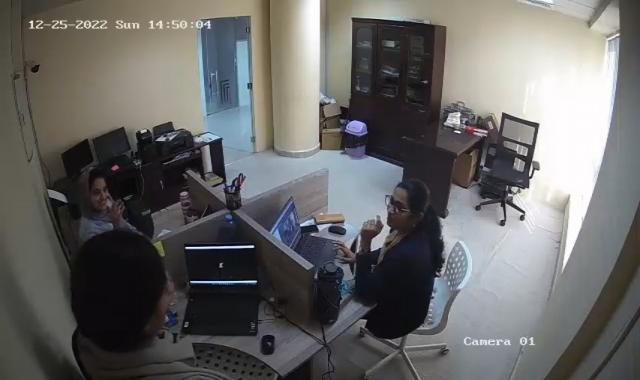no_hairnet: (71, 232, 168, 347), (384, 177, 430, 231), (78, 167, 111, 214)
